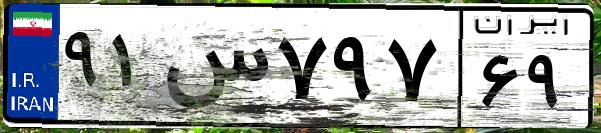1: (110, 28, 158, 98)
6: (475, 38, 525, 113)
7: (270, 28, 330, 110), (385, 28, 445, 110)
9: (330, 28, 385, 110), (57, 26, 110, 100), (525, 38, 570, 115)
س: (158, 20, 270, 120)
